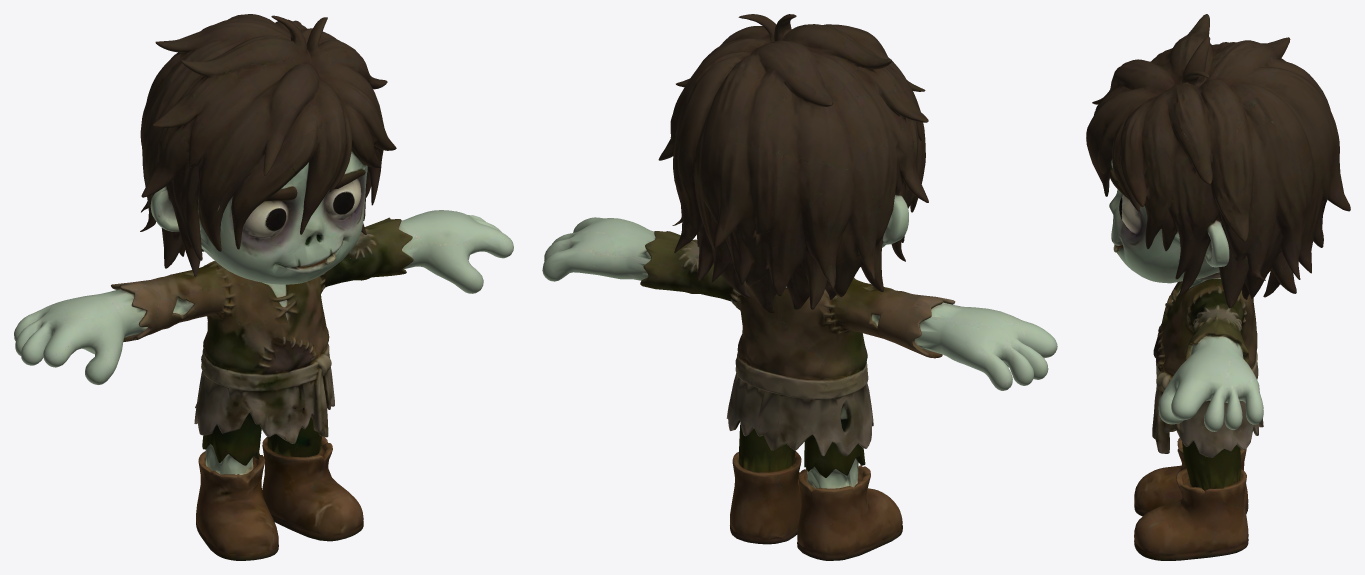
Rendered from a3D-zombio.glb.
3 renders of one model, left to right at view 1: azimuth 30°, elevation 25°; view 2: azimuth 150°, elevation 25°; view 3: azimuth 270°, elevation 25°, orthographic. The views are drawn at different scales.
Parts seen in each view (by area): view 1: geometry_0; view 2: geometry_0; view 3: geometry_0.
Boxes of the visible parts, box(x1,y1,x2,y2) form: geometry_0: box(14, 14, 513, 560); geometry_0: box(542, 14, 1057, 560); geometry_0: box(1086, 14, 1350, 560).
Size of the model in its own units: 1.9 by 1.9 by 0.9244.
Materials: 1 (1 with a texture image).
